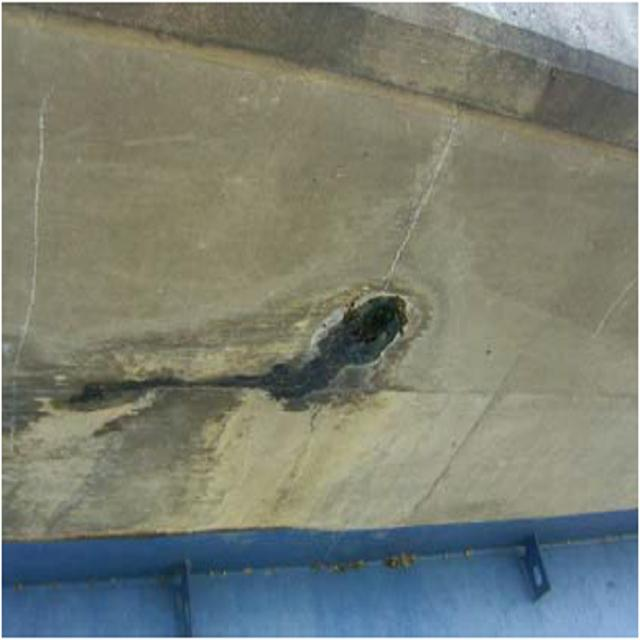leakage: (36, 272, 473, 482)
